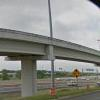Bridge: (2, 17, 94, 75)
